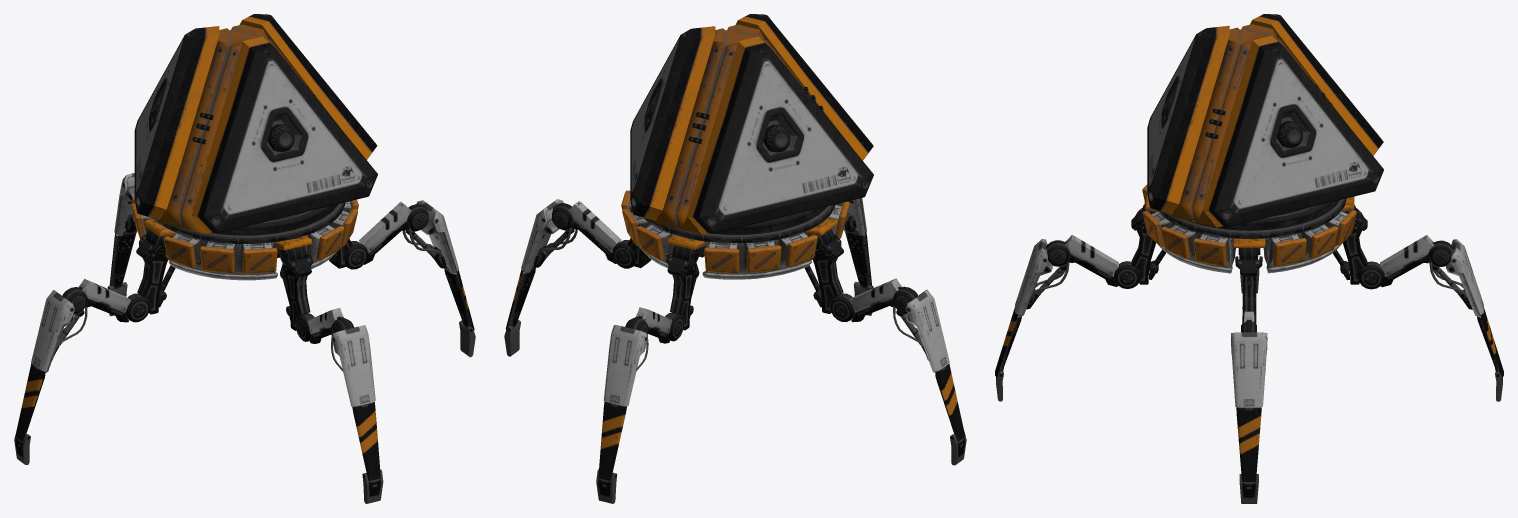
Rendered from apex_bot.obj.
The picture shows the model from 3 angles, left to right: view 1: azimuth 30°, elevation 25°; view 2: azimuth 150°, elevation 25°; view 3: azimuth 270°, elevation 25°; orthographic projection. The views are drawn at different scales.
Visible parts, largest first — view 1: apex_bot:MeshpolySurface417, apex_bot:MeshpolySurface389, apex_bot:MeshpolySurface175, apex_bot:MeshpolySurface421, apex_bot:MeshpolySurface171, apex_bot:MeshpolySurface168, apex_bot:MeshpolySurface283, apex_bot:MeshpolySurface302, apex_bot:MeshpolySurface263, apex_bot:MeshpolySurface320, apex_bot:MeshpolySurface429, apex_bot:MeshpolySurface154 (+15 smaller); view 2: apex_bot:MeshpolySurface421, apex_bot:MeshpolySurface391, apex_bot:MeshpolySurface173, apex_bot:MeshpolySurface420, apex_bot:MeshpolySurface168, apex_bot:MeshpolySurface174, apex_bot:MeshpolySurface271, apex_bot:MeshpolySurface302, apex_bot:MeshpolySurface267, apex_bot:MeshpolySurface155, apex_bot:MeshpolySurface269, apex_bot:MeshpolySurface131 (+15 smaller); view 3: apex_bot:MeshpolySurface420, apex_bot:MeshpolySurface170, apex_bot:MeshpolySurface417, apex_bot:MeshpolySurface174, apex_bot:MeshpolySurface300, apex_bot:MeshpolySurface388, apex_bot:MeshpolySurface171, apex_bot:MeshpolySurface390, apex_bot:MeshpolySurface265, apex_bot:MeshpolySurface319, apex_bot:MeshpolySurface419, apex_bot:MeshpolySurface143 (+9 smaller).
Part boxes in pixels (x1,y1,x2,y2): apex_bot:MeshpolySurface417: (203,47,377,233); apex_bot:MeshpolySurface389: (159,41,240,233); apex_bot:MeshpolySurface175: (138,35,218,220); apex_bot:MeshpolySurface421: (134,28,195,213); apex_bot:MeshpolySurface171: (243,14,376,159); apex_bot:MeshpolySurface168: (192,36,273,216); apex_bot:MeshpolySurface283: (332,325,375,406); apex_bot:MeshpolySurface302: (31,290,74,371); apex_bot:MeshpolySurface263: (352,402,380,480); apex_bot:MeshpolySurface320: (211,204,337,235); apex_bot:MeshpolySurface429: (219,206,341,244); apex_bot:MeshpolySurface154: (84,282,130,322); apex_bot:MeshpolySurface421: (698,47,873,233); apex_bot:MeshpolySurface391: (655,41,736,234); apex_bot:MeshpolySurface173: (633,35,714,220); apex_bot:MeshpolySurface420: (630,29,691,213); apex_bot:MeshpolySurface168: (739,14,873,160); apex_bot:MeshpolySurface174: (687,36,768,216); apex_bot:MeshpolySurface271: (604,325,647,406); apex_bot:MeshpolySurface302: (906,289,949,371); apex_bot:MeshpolySurface267: (598,401,626,480); apex_bot:MeshpolySurface155: (849,282,896,322); apex_bot:MeshpolySurface269: (935,364,965,441); apex_bot:MeshpolySurface131: (568,204,616,263); apex_bot:MeshpolySurface420: (1214,46,1383,226); apex_bot:MeshpolySurface170: (1150,34,1229,214); apex_bot:MeshpolySurface417: (1147,28,1206,207); apex_bot:MeshpolySurface174: (1253,14,1383,155); apex_bot:MeshpolySurface300: (1231,332,1267,407); apex_bot:MeshpolySurface388: (1171,40,1240,221); apex_bot:MeshpolySurface171: (1203,35,1282,210); apex_bot:MeshpolySurface390: (1191,44,1250,227); apex_bot:MeshpolySurface265: (1236,407,1261,481); apex_bot:MeshpolySurface319: (1188,200,1339,230); apex_bot:MeshpolySurface419: (1180,219,1318,238); apex_bot:MeshpolySurface143: (1065,239,1118,286).
Size of the model in its own units: 0.9992 by 0.7954 by 0.9992.
1 material, 1 textured.
